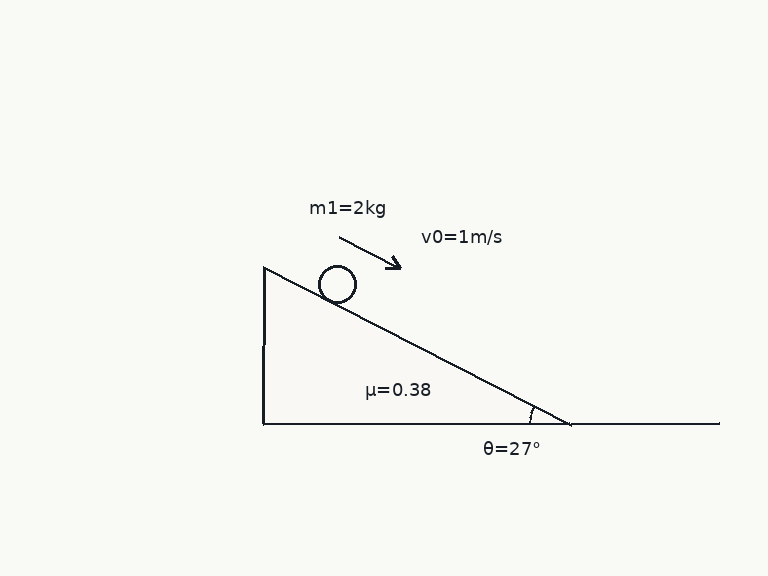ball: (316, 263, 358, 305)
ramp: (261, 266, 572, 426)
